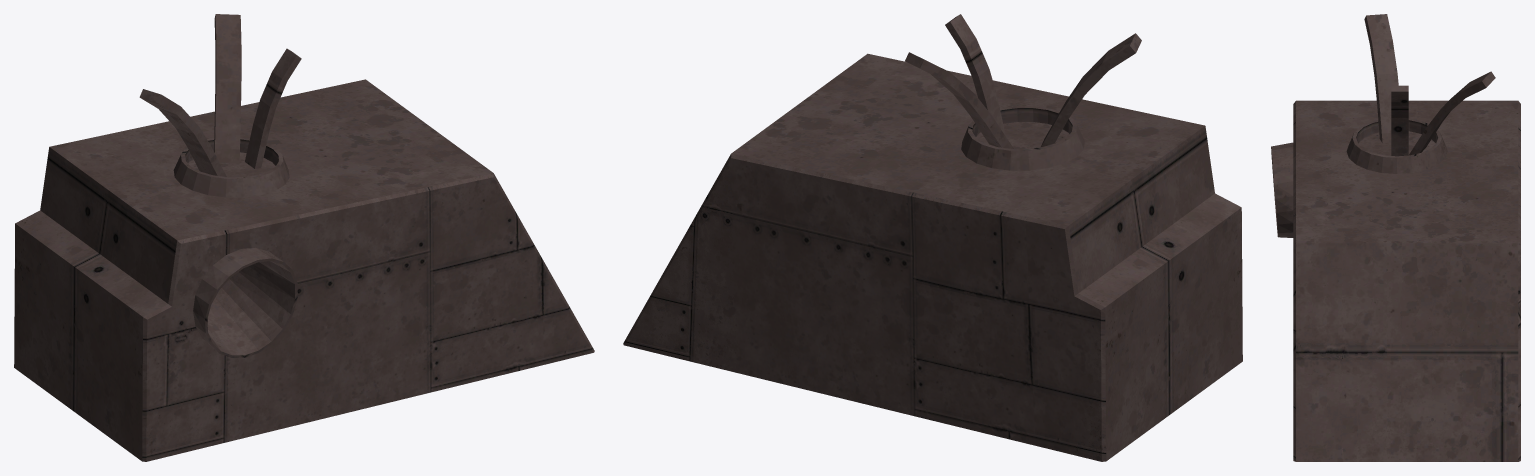
The model's file is MachinePart05.fbx.
3 renders of one model, left to right at view 1: azimuth 30°, elevation 25°; view 2: azimuth 150°, elevation 25°; view 3: azimuth 270°, elevation 25°, orthographic. The views are drawn at different scales.
Visible parts, largest first — view 1: SM_ENV_STRUCT_ScrapYard_MachinePart_12.mo; view 2: SM_ENV_STRUCT_ScrapYard_MachinePart_12.mo; view 3: SM_ENV_STRUCT_ScrapYard_MachinePart_12.mo.
Part boxes in pixels (box(x1,y1,x2,y2)): SM_ENV_STRUCT_ScrapYard_MachinePart_12.mo: box(14, 14, 594, 461); SM_ENV_STRUCT_ScrapYard_MachinePart_12.mo: box(623, 14, 1242, 461); SM_ENV_STRUCT_ScrapYard_MachinePart_12.mo: box(1271, 14, 1520, 461).
Size of the model in its own units: 2160 by 1471 by 1190.
3 materials, 3 textured.
